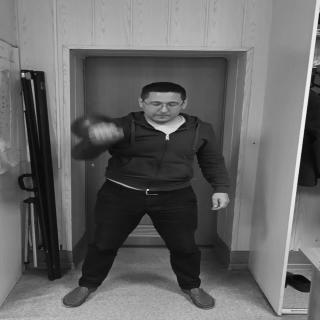kettlebell: (72, 113, 121, 143)
